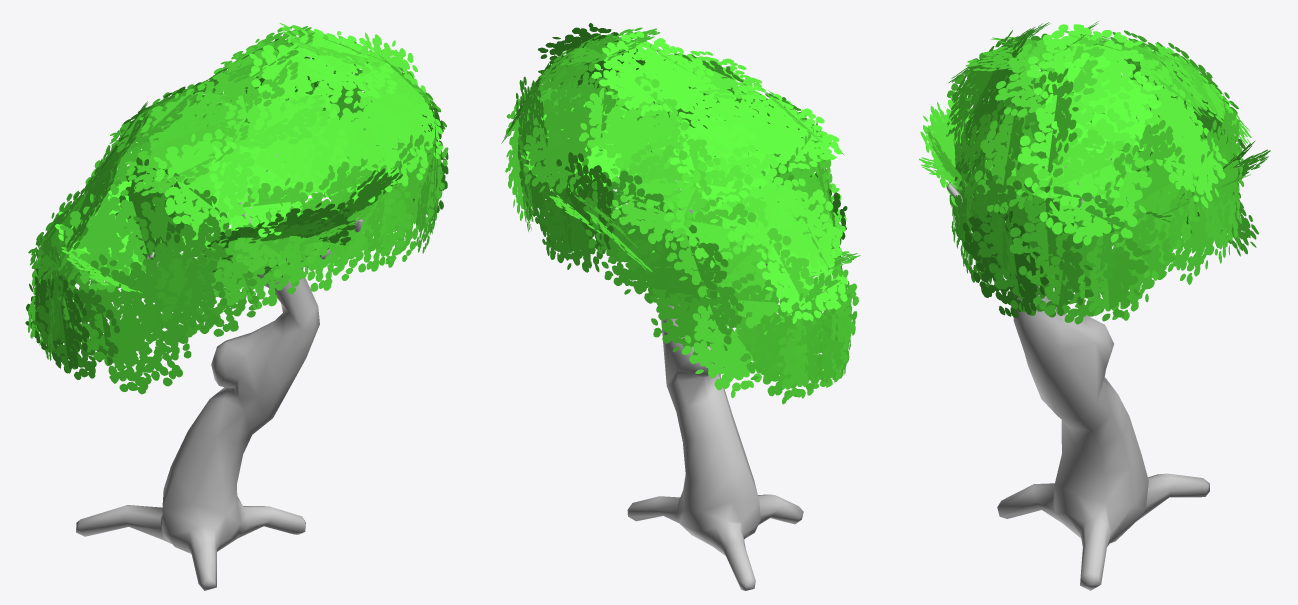
The model's file is Tree G 1.fbx.
3 views of the same model, side by side, from view 1: azimuth 30°, elevation 25°; view 2: azimuth 150°, elevation 25°; view 3: azimuth 270°, elevation 25° (orthographic). The views are drawn at different scales.
Visible parts, largest first — view 1: Tree G 1 LOD0; view 2: Tree G 1 LOD0; view 3: Tree G 1 LOD0.
Boxes of the visible parts, x1=… form: Tree G 1 LOD0: x1=25, y1=23, x2=448, y2=590; Tree G 1 LOD0: x1=501, y1=23, x2=860, y2=590; Tree G 1 LOD0: x1=919, y1=21, x2=1270, y2=590.
Size of what is drawn, in the model's own units: 3.12 by 5.19 by 4.23.
